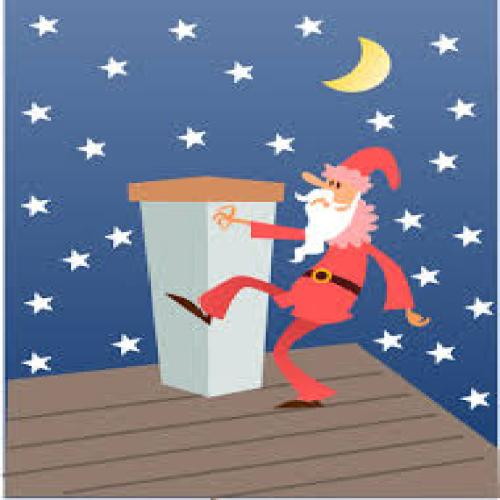Santa: (162, 145, 430, 410)
